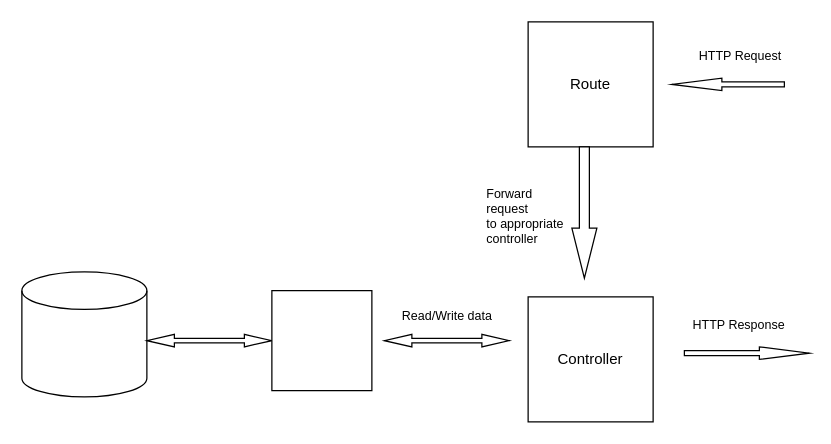
Image size: 831x444. Some labels were removed from this diagram. The centre of each missing label's shape, as x and y in pixels:
Database: point 84,334
Model: point 321,340
